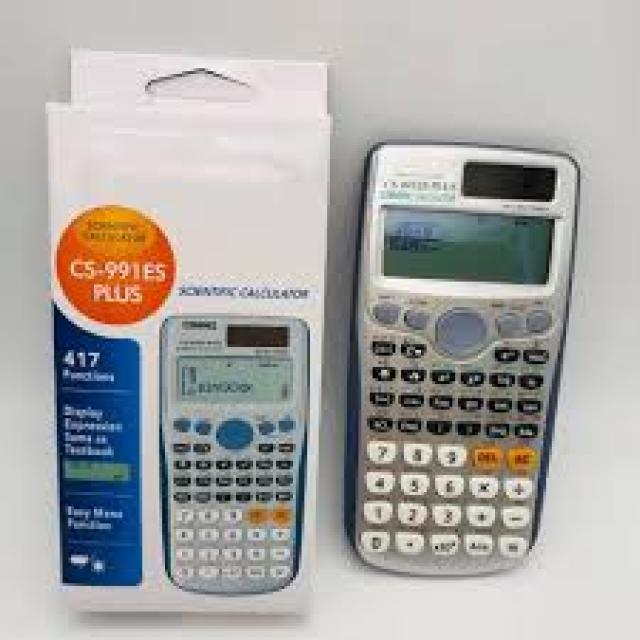Calculator: (349, 145, 582, 575), (156, 296, 313, 599)
